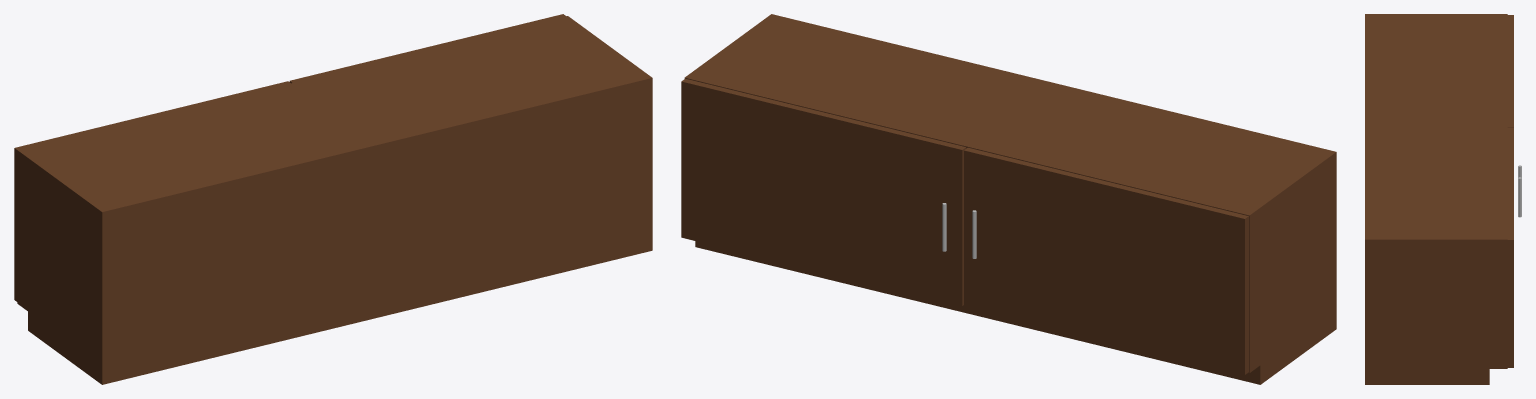
Rendered from furniture.storage.tv_unit.glb.
3 views of the same model, side by side, from view 1: azimuth 30°, elevation 25°; view 2: azimuth 150°, elevation 25°; view 3: azimuth 270°, elevation 25° (orthographic). The views are drawn at different scales.
Parts seen in each view (by area): view 1: main__hardwood; view 2: main__hardwood; view 3: main__hardwood, main__steel_stainless.
Part boxes in pixels (bbox=[...]): main__hardwood: bbox=[14, 14, 652, 384]; main__hardwood: bbox=[681, 14, 1336, 384]; main__hardwood: bbox=[1365, 14, 1513, 384]; main__steel_stainless: bbox=[1518, 165, 1521, 217].
Bounding box in the file's own units: 1.5 × 0.45 × 0.44.
